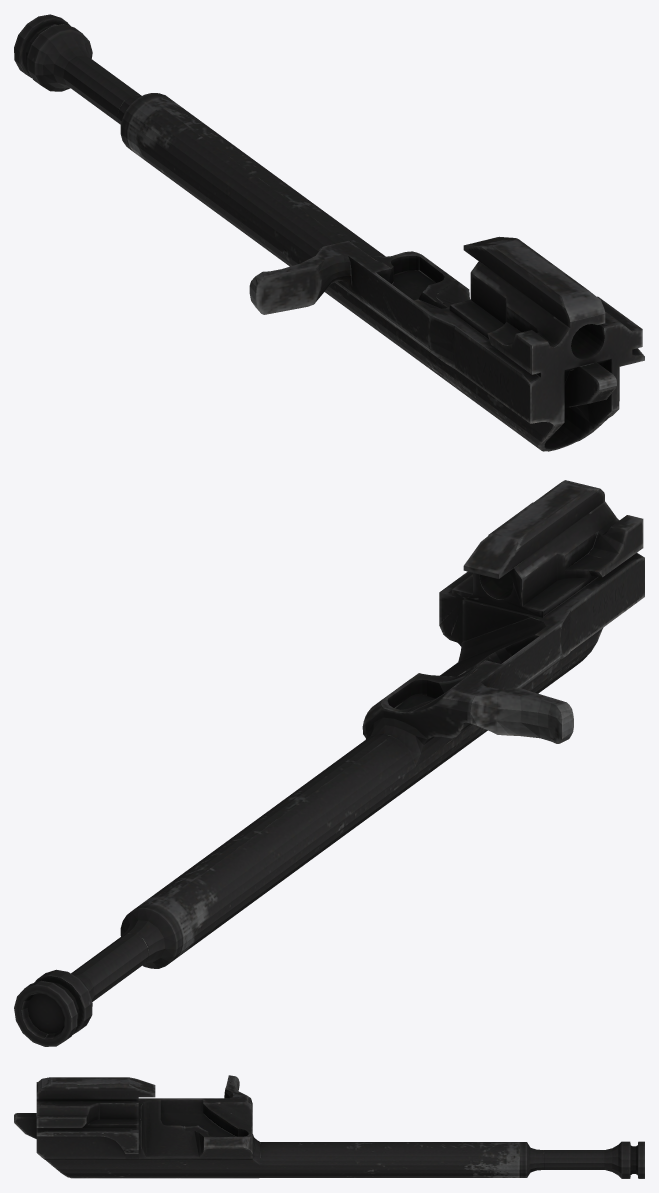
The picture shows the model from 3 angles, top to bottom: view 1: azimuth 30°, elevation 25°; view 2: azimuth 150°, elevation 25°; view 3: azimuth 270°, elevation 25°; orthographic projection. The views are drawn at different scales.
Visible parts, largest first — view 1: TW_5839a40f24597726f856b511_PZ_Import; view 2: TW_5839a40f24597726f856b511_PZ_Import; view 3: TW_5839a40f24597726f856b511_PZ_Import.
Boxes of the visible parts, <box> form: TW_5839a40f24597726f856b511_PZ_Import: <box>14,14,644,451</box>; TW_5839a40f24597726f856b511_PZ_Import: <box>14,480,644,1046</box>; TW_5839a40f24597726f856b511_PZ_Import: <box>14,1075,644,1178</box>.
Bounding box in the file's own units: 0.0323 × 0.1462 × 0.0246.
1 material, 1 textured.
